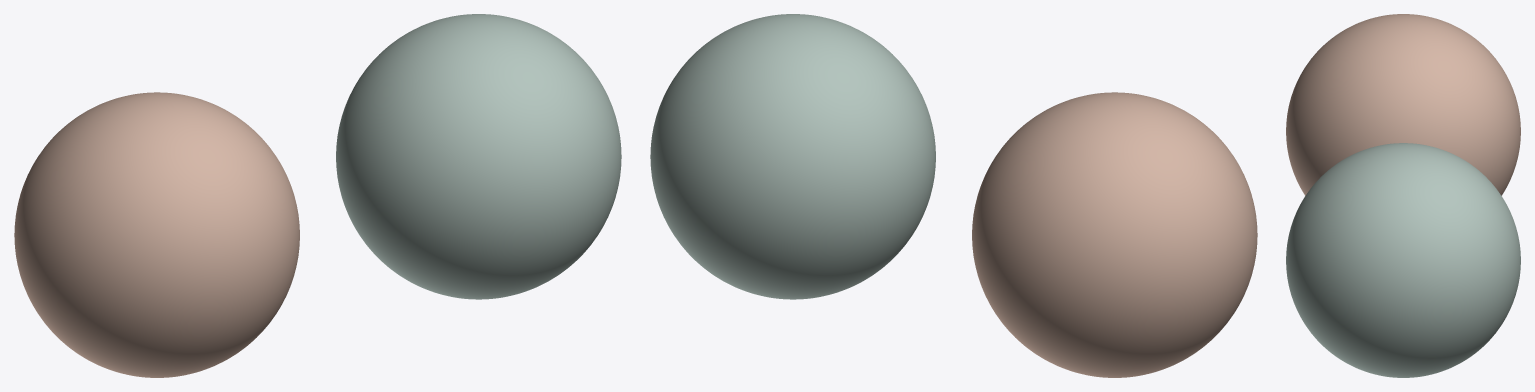
The model's file is sss_fixture.gltf.
3 renders of one model, left to right at view 1: azimuth 30°, elevation 25°; view 2: azimuth 150°, elevation 25°; view 3: azimuth 270°, elevation 25°, orthographic. The views are drawn at different scales.
Visible parts, largest first — view 1: sss_skin_a, sss_skin_b; view 2: sss_skin_a, sss_skin_b; view 3: sss_skin_b, sss_skin_a.
Part boxes in pixels (x1,y1,x2,y2): sss_skin_a: [14, 92, 299, 377]; sss_skin_b: [336, 14, 621, 299]; sss_skin_a: [972, 92, 1257, 377]; sss_skin_b: [650, 14, 935, 299]; sss_skin_b: [1286, 143, 1520, 377]; sss_skin_a: [1286, 14, 1520, 195].
Bounding box in the file's own units: 4.6 × 2 × 2.
